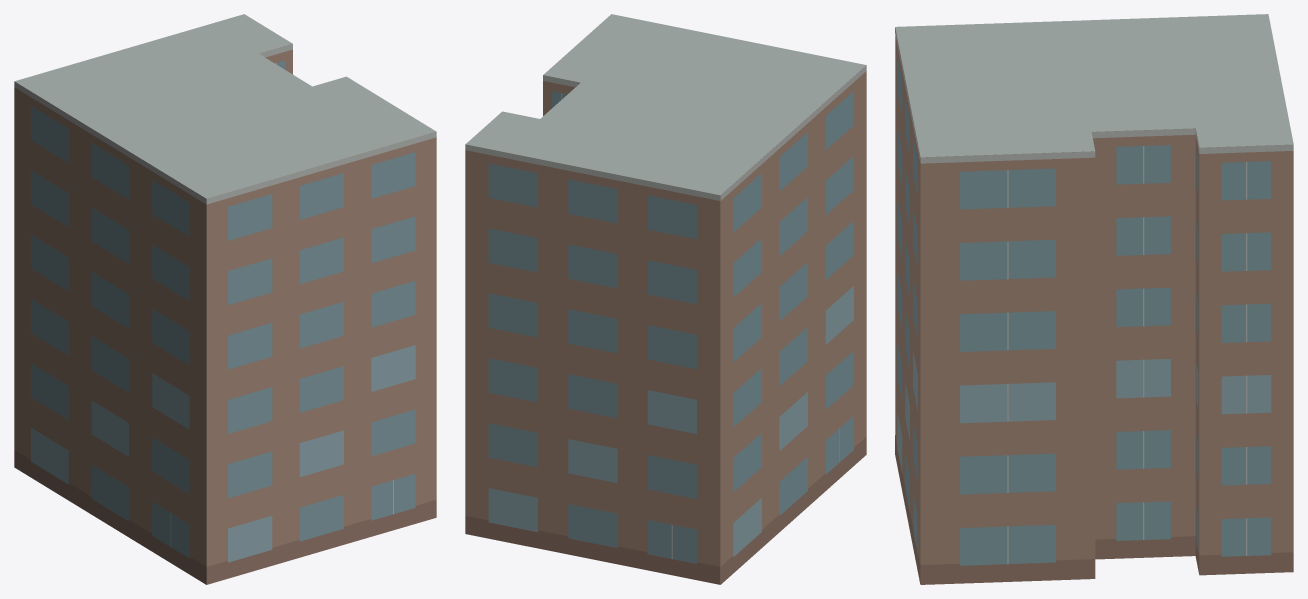
File: survey-upis-32608014.glb
The picture shows the model from 3 angles, left to right: view 1: azimuth 30°, elevation 25°; view 2: azimuth 150°, elevation 25°; view 3: azimuth 270°, elevation 25°; orthographic projection. The views are drawn at different scales.
Parts seen in each view (by area): view 1: survey-upis-32608014.tmp; view 2: survey-upis-32608014.tmp; view 3: survey-upis-32608014.tmp.
Part boxes in pixels (bbox=[...]): survey-upis-32608014.tmp: bbox=[14, 14, 436, 584]; survey-upis-32608014.tmp: bbox=[465, 14, 866, 584]; survey-upis-32608014.tmp: bbox=[895, 14, 1293, 584].
Size of the model in its own units: 11.8 by 16.4 by 13.87.
